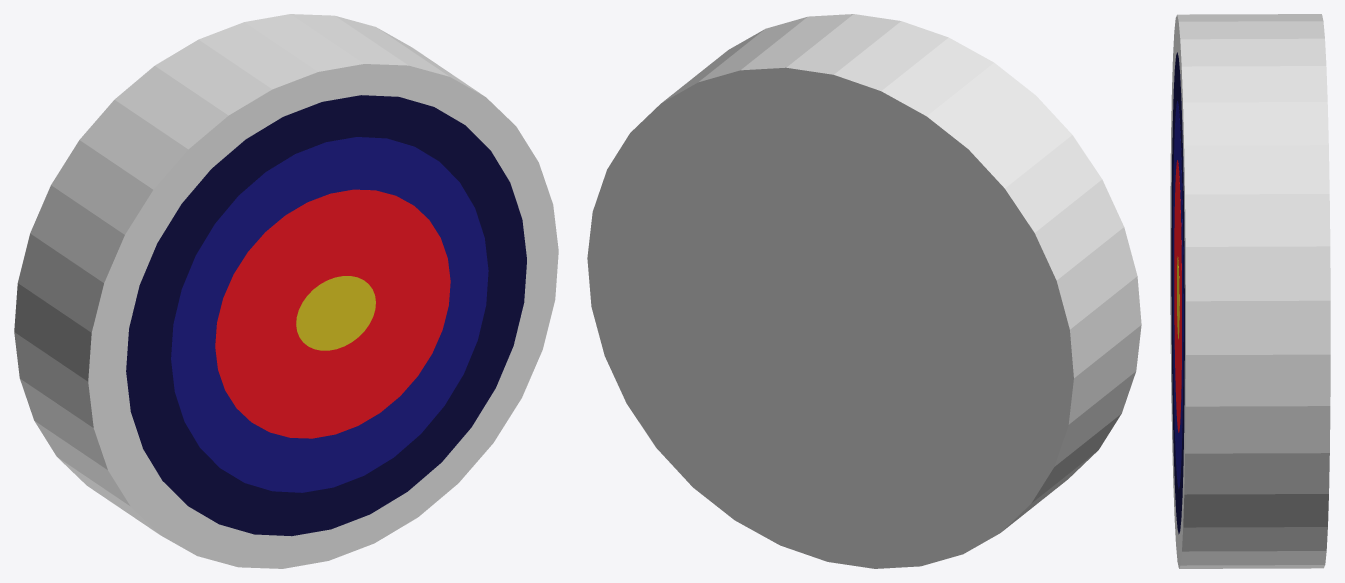
Rendered from targetfinale.fbx.
The picture shows the model from 3 angles, left to right: view 1: azimuth 30°, elevation 25°; view 2: azimuth 150°, elevation 25°; view 3: azimuth 270°, elevation 25°; orthographic projection. The views are drawn at different scales.
Parts seen in each view (by area): view 1: Cylinder.004, Cylinder, Cylinder.005, Cylinder.001, Cylinder.003; view 2: Cylinder.004; view 3: Cylinder.004, Cylinder, Cylinder.005, Cylinder.001.
Boxes of the visible parts, <box> form: Cylinder.004: <box>14,14,558,568</box>; Cylinder: <box>126,95,526,536</box>; Cylinder.005: <box>171,137,488,492</box>; Cylinder.001: <box>215,189,450,438</box>; Cylinder.003: <box>296,276,375,350</box>; Cylinder.004: <box>587,14,1141,568</box>; Cylinder.004: <box>1170,14,1330,568</box>; Cylinder: <box>1171,52,1184,534</box>; Cylinder.005: <box>1173,101,1183,488</box>; Cylinder.001: <box>1174,160,1181,432</box>.
Bounding box in the file's own units: 350 × 341 × 98.82.
